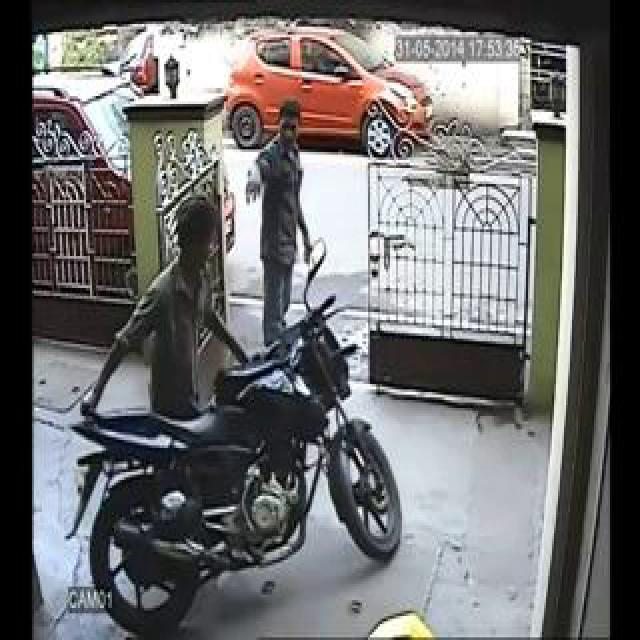stealing: (118, 59, 425, 582)
